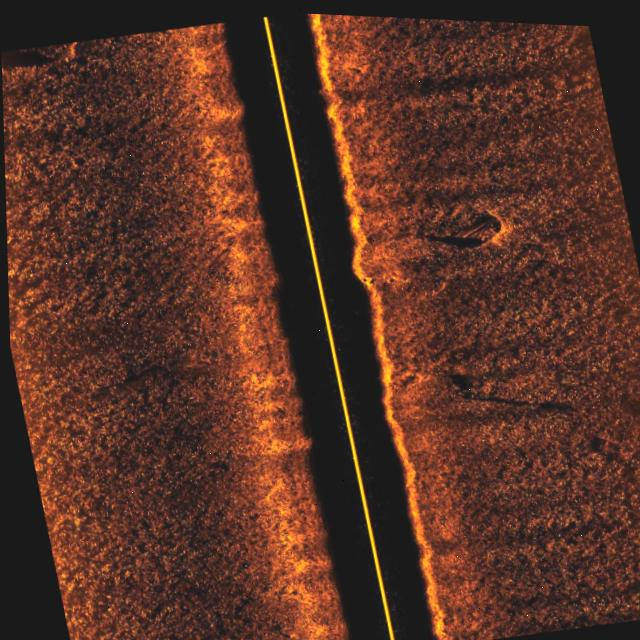other: (440, 185, 520, 270)
